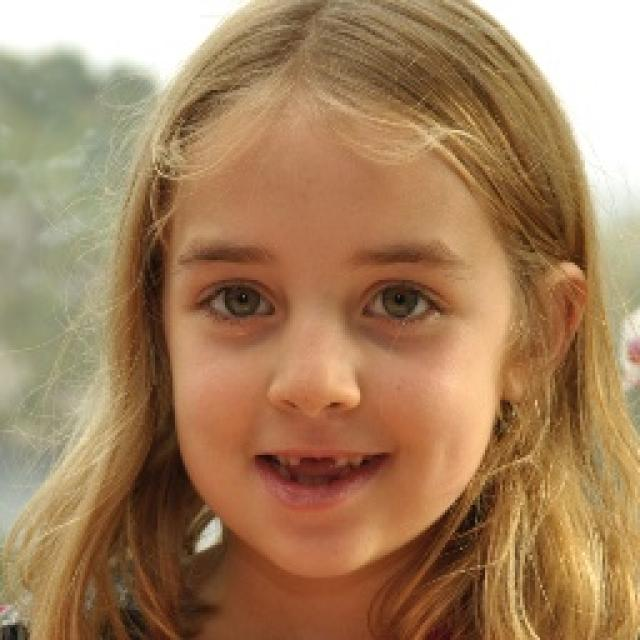earlobe: (499, 260, 586, 404)
